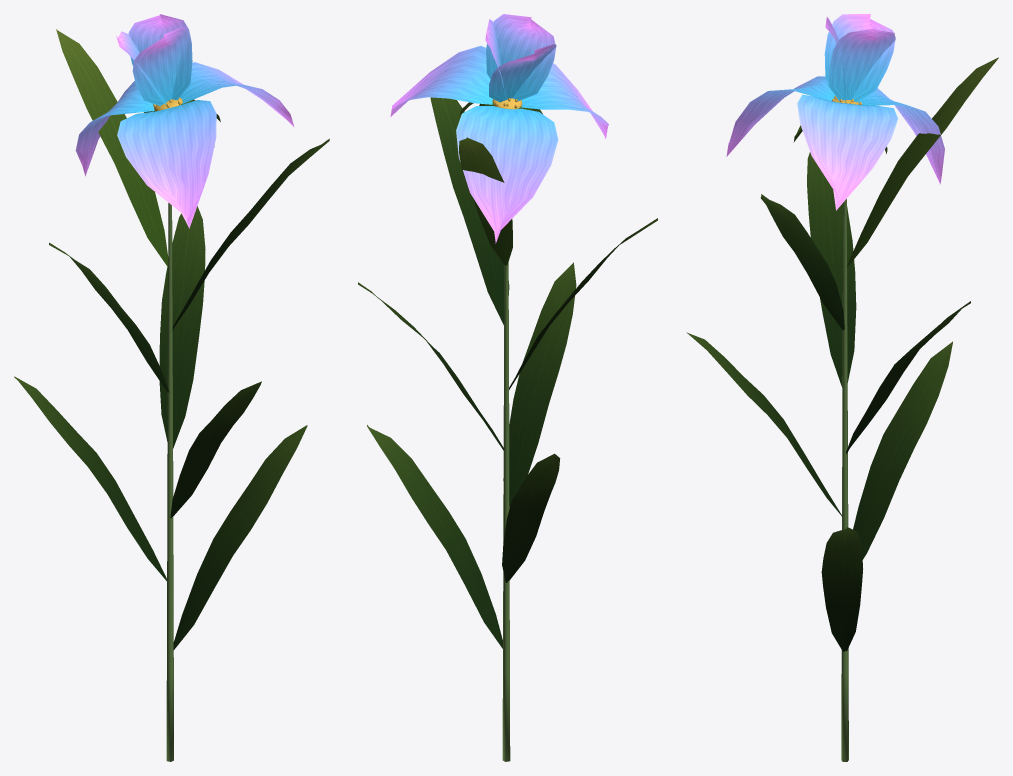
Rendered from iris-dream-10-lod.glb.
3 renders of one model, left to right at view 1: azimuth 30°, elevation 25°; view 2: azimuth 150°, elevation 25°; view 3: azimuth 270°, elevation 25°, orthographic.
Parts seen in each view (by area): view 1: iris_dream_stage_10_leaf_veins.021, iris_dream_stage_10_iris_petal.021, iris_dream_stage_10_young_leaf.021, iris_dream_stage_10_stem_fibres.021; view 2: iris_dream_stage_10_leaf_veins.021, iris_dream_stage_10_iris_petal.021, iris_dream_stage_10_stem_fibres.021, iris_dream_stage_10_young_leaf.021; view 3: iris_dream_stage_10_leaf_veins.021, iris_dream_stage_10_iris_petal.021, iris_dream_stage_10_young_leaf.021, iris_dream_stage_10_stem_fibres.021.
Part boxes in pixels (<box>): iris_dream_stage_10_leaf_veins.021: <box>14,99,329,649</box>; iris_dream_stage_10_iris_petal.021: <box>75,14,294,228</box>; iris_dream_stage_10_young_leaf.021: <box>56,29,192,266</box>; iris_dream_stage_10_stem_fibres.021: <box>166,203,173,761</box>; iris_dream_stage_10_leaf_veins.021: <box>358,97,657,648</box>; iris_dream_stage_10_iris_petal.021: <box>390,14,608,243</box>; iris_dream_stage_10_stem_fibres.021: <box>502,262,510,761</box>; iris_dream_stage_10_young_leaf.021: <box>459,100,532,265</box>; iris_dream_stage_10_leaf_veins.021: <box>686,125,970,651</box>; iris_dream_stage_10_iris_petal.021: <box>726,14,944,210</box>; iris_dream_stage_10_young_leaf.021: <box>847,57,998,267</box>; iris_dream_stage_10_stem_fibres.021: <box>841,199,848,761</box>.
Bounding box in the file's own units: 0.3133 × 0.8048 × 0.3095.
5 materials, 3 textured.
